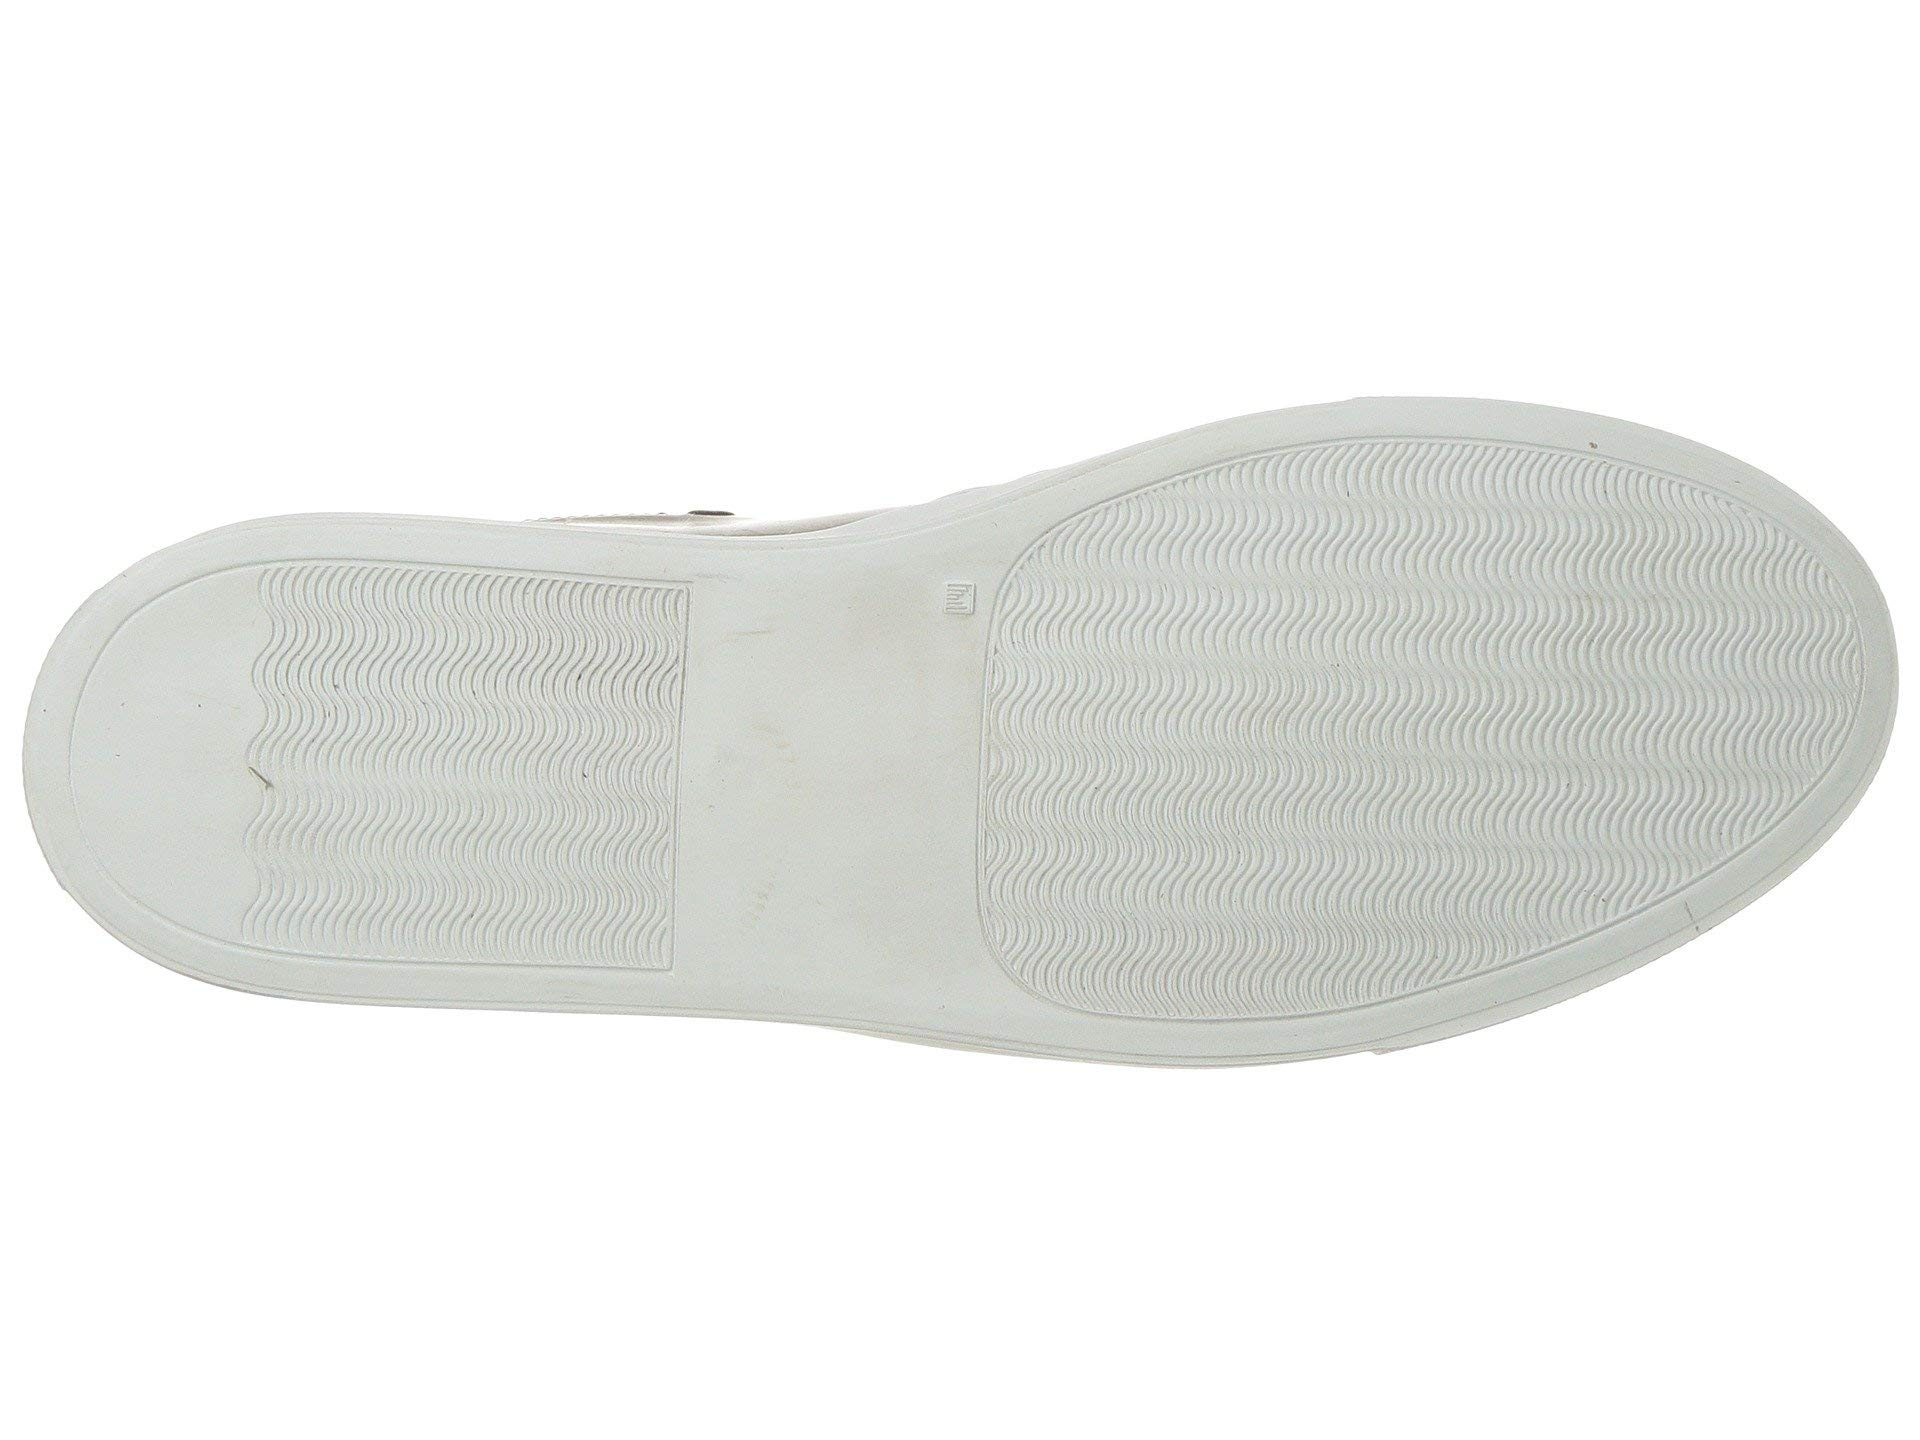chevron: (1025, 502, 1495, 976), (274, 585, 686, 948), (1512, 498, 1739, 867), (1748, 567, 1828, 765)
quad: (934, 573, 986, 626)
